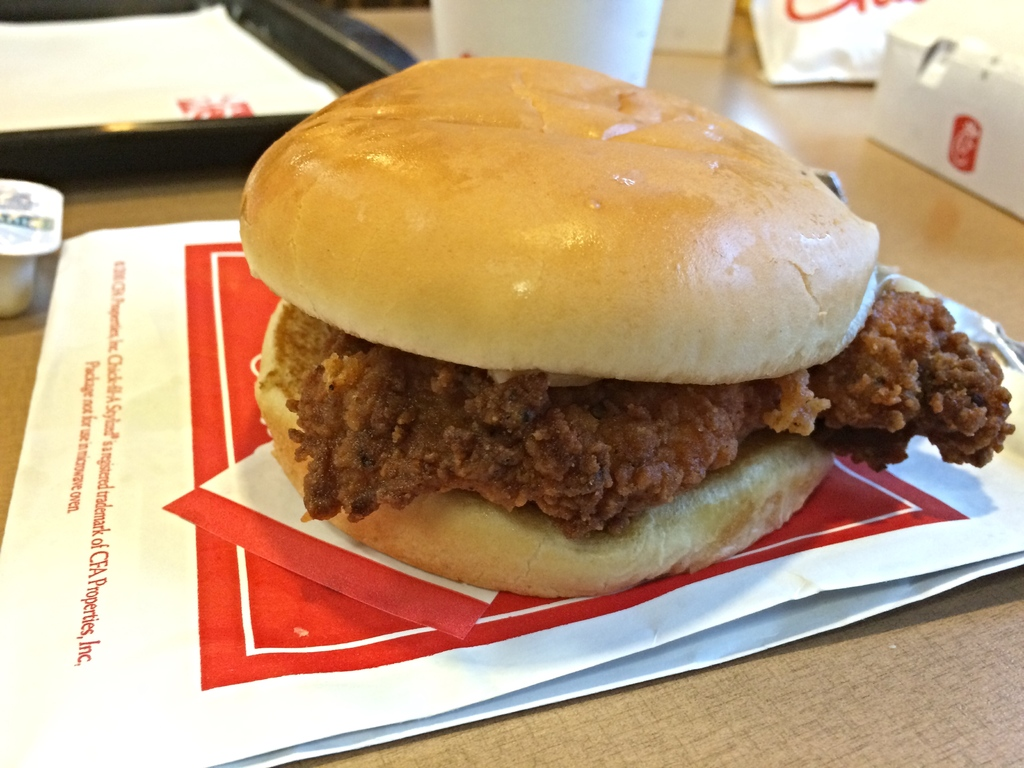Hamburger: (236, 58, 1011, 595)
